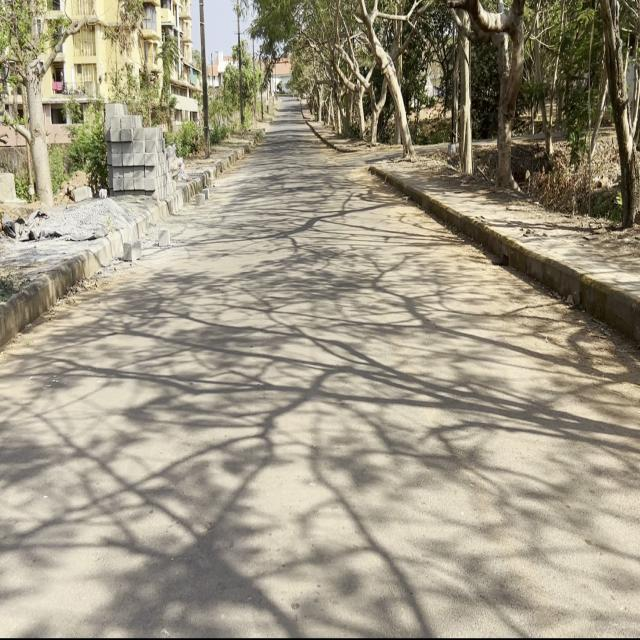Road: (0, 103, 640, 639)
